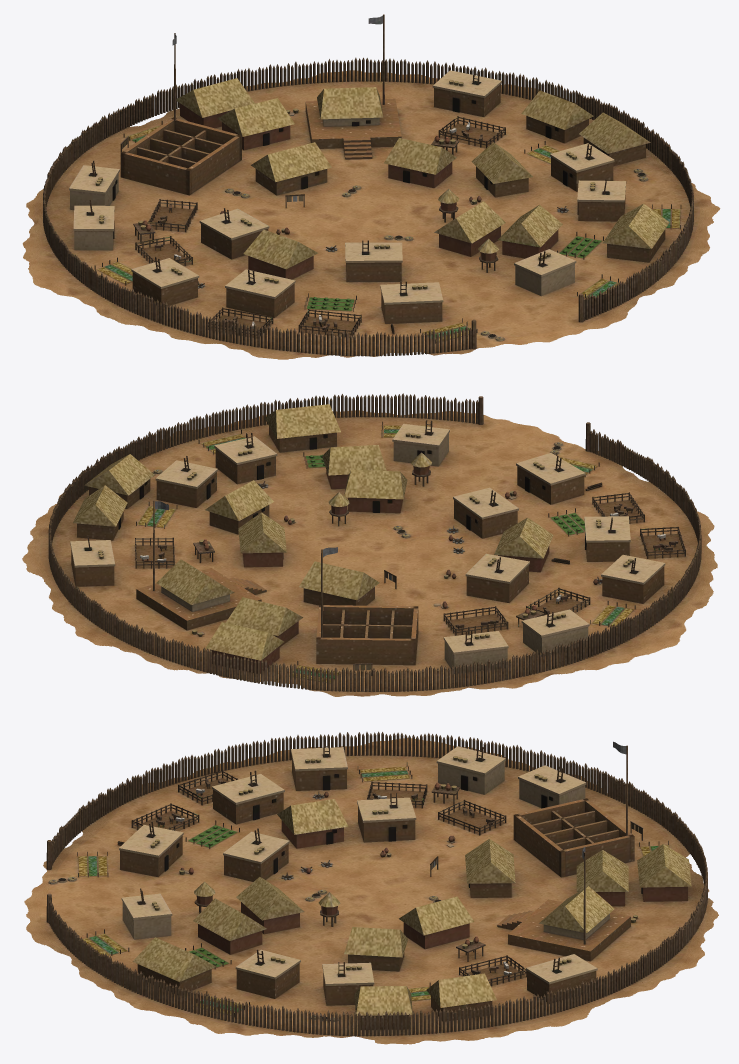
Rendered from stone-town-big-b-indic.glb.
3 views of the same model, one above another, from view 1: azimuth 30°, elevation 25°; view 2: azimuth 150°, elevation 25°; view 3: azimuth 270°, elevation 25° (orthographic). The views are drawn at different scales.
Parts seen in each view (by area): view 1: LOD0; view 2: LOD0; view 3: LOD0.
Boxes of the visible parts, x1=… form: LOD0: x1=22, y1=14, x2=720, y2=359; LOD0: x1=22, y1=393, x2=717, y2=696; LOD0: x1=24, y1=731, x2=718, y2=1044.
Size of what is drawn, in the model's own units: 8.04 by 1.4 by 7.72.
3 materials, 3 textured.
